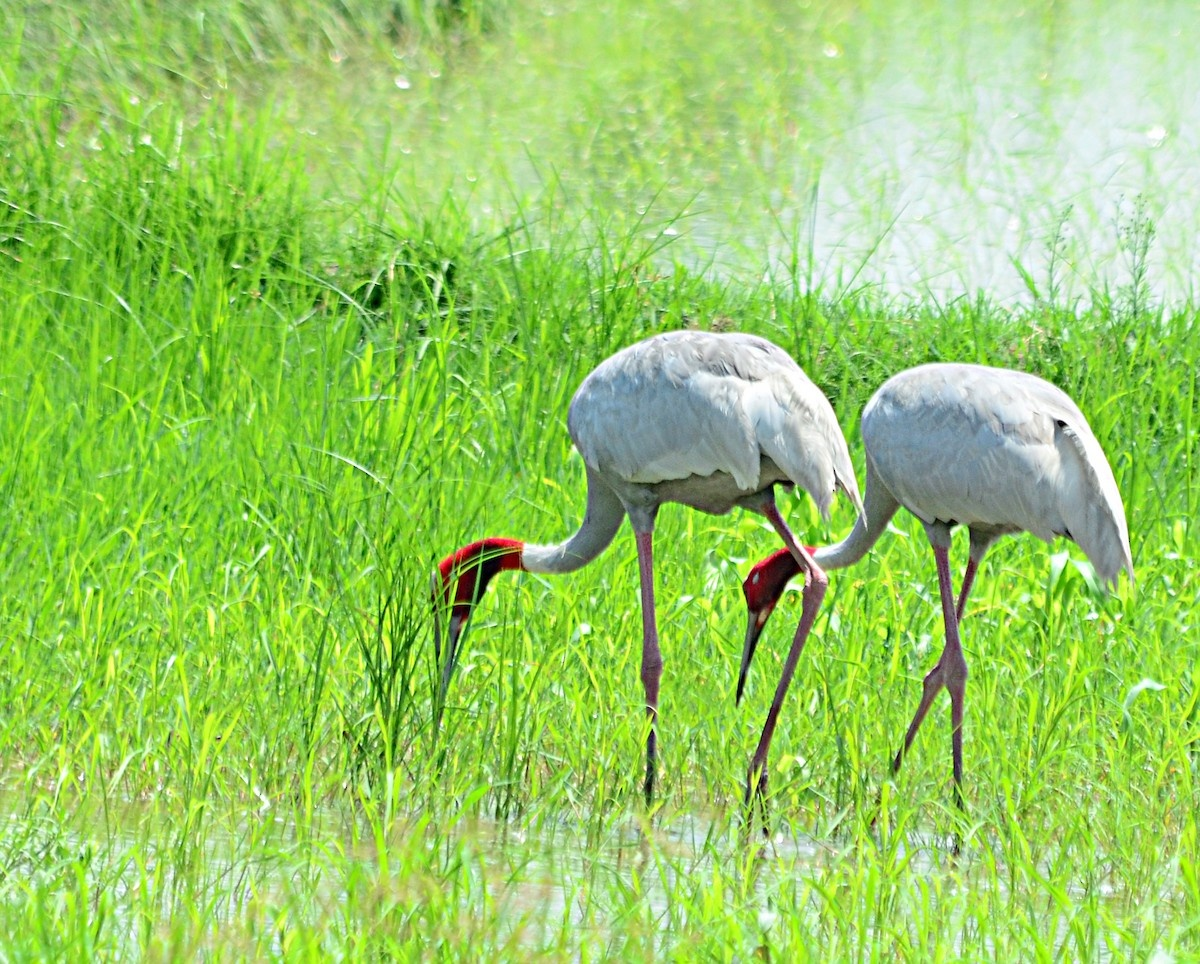crane: (421, 318, 874, 826), (738, 332, 1138, 802)
